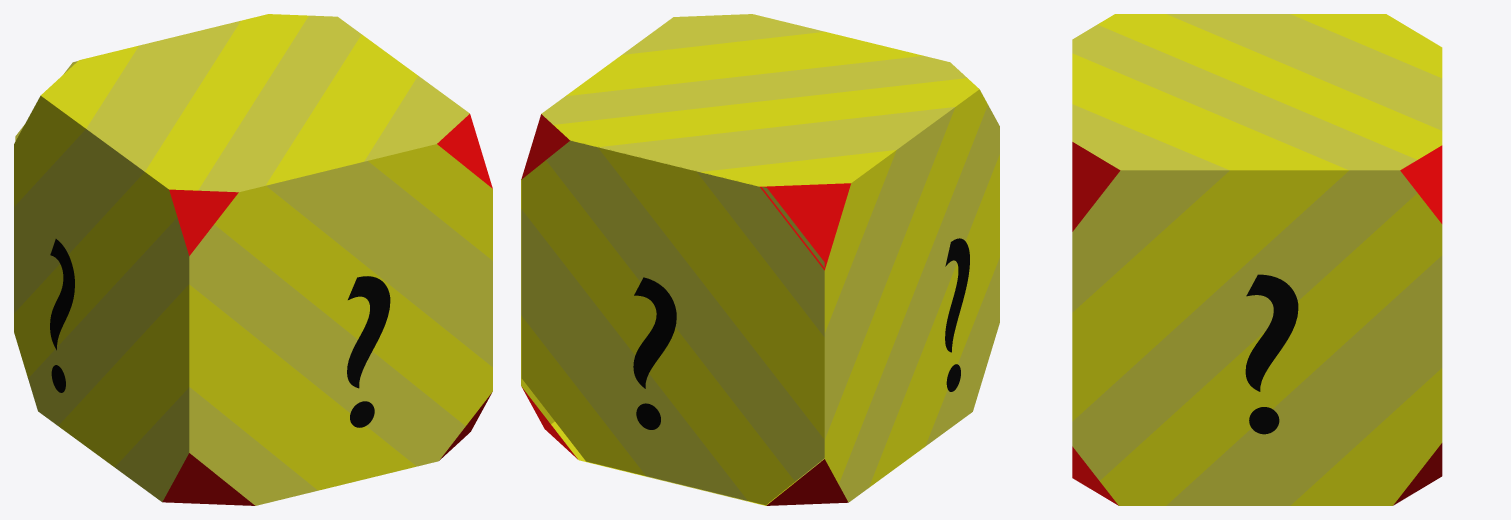
Rendered from Caixa surpresa.fbx.
3 views of the same model, side by side, from view 1: azimuth 30°, elevation 25°; view 2: azimuth 150°, elevation 25°; view 3: azimuth 270°, elevation 25° (orthographic). The views are drawn at different scales.
Visible parts, largest first — view 1: Caixinha Surpresa; view 2: Caixinha Surpresa; view 3: Caixinha Surpresa.
Part boxes in pixels (x1,y1,x2,y2): Caixinha Surpresa: (14, 14, 492, 505); Caixinha Surpresa: (521, 14, 999, 505); Caixinha Surpresa: (1072, 14, 1442, 505).
Bounding box in the file's own units: 38.89 × 30 × 38.
